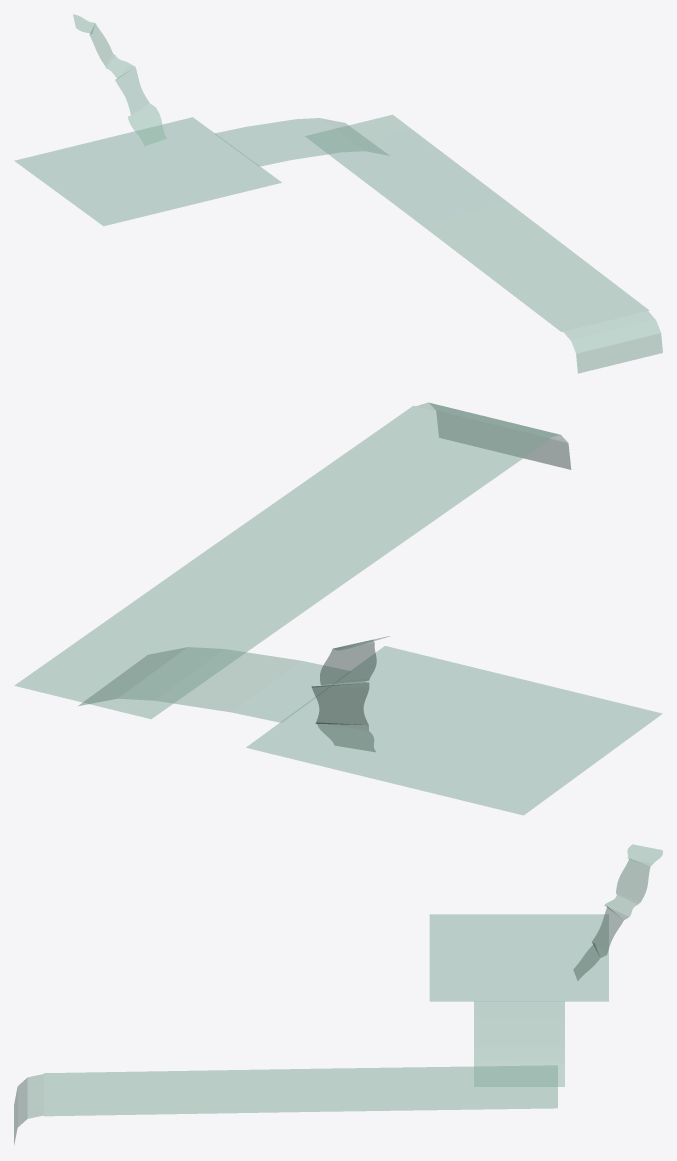
The model's file is springwater.glb.
The picture shows the model from 3 angles, top to bottom: view 1: azimuth 30°, elevation 25°; view 2: azimuth 150°, elevation 25°; view 3: azimuth 270°, elevation 25°; orthographic projection. The views are drawn at different scales.
Parts seen in each view (by area): view 1: Mill race, Spring basin, Spring gate, Wheel lip, Spring source; view 2: Mill race, Spring basin, Spring gate, Spring source, Wheel lip; view 3: Mill race, Spring basin, Spring gate, Spring source, Wheel lip.
Boxes of the visible parts, x1,y1,x2,y2 form: Mill race: [305, 114, 649, 331]; Spring basin: [14, 117, 281, 225]; Spring gate: [215, 118, 389, 166]; Wheel lip: [563, 311, 662, 373]; Spring source: [73, 14, 166, 145]; Mill race: [14, 406, 550, 718]; Spring basin: [246, 646, 662, 815]; Spring gate: [78, 647, 349, 722]; Spring source: [311, 636, 389, 752]; Wheel lip: [416, 402, 571, 469]; Mill race: [43, 1065, 557, 1116]; Spring basin: [429, 914, 608, 1001]; Spring gate: [474, 1001, 564, 1086]; Spring source: [573, 844, 662, 980]; Wheel lip: [14, 1074, 43, 1144].
Size of the model in its own units: 3.28 by 1.48 by 5.21.
